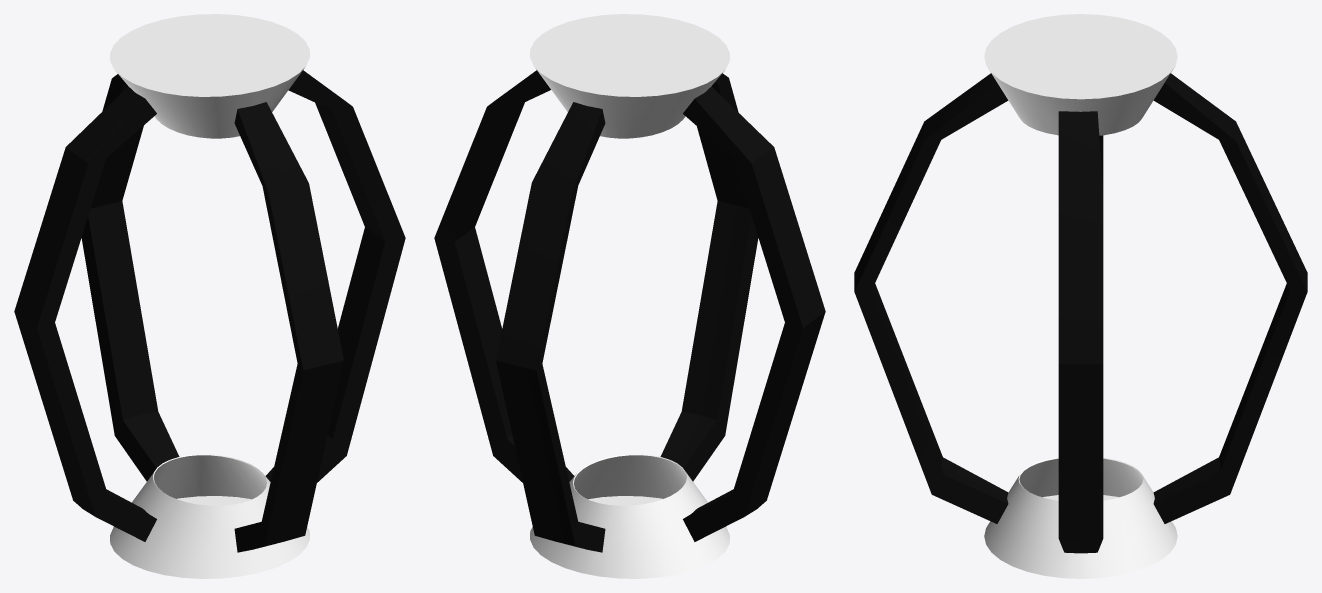
Rendered from soporte capsula.fbx.
The picture shows the model from 3 angles, left to right: view 1: azimuth 30°, elevation 25°; view 2: azimuth 150°, elevation 25°; view 3: azimuth 270°, elevation 25°; orthographic projection.
Visible parts, largest first — view 1: Sphere.002; view 2: Sphere.002; view 3: Sphere.002.
Part boxes in pixels (bbox=[...]): Sphere.002: bbox=[14, 14, 405, 578]; Sphere.002: bbox=[434, 14, 825, 578]; Sphere.002: bbox=[854, 14, 1307, 578].
Bounding box in the file's own units: 400 × 500 × 428.
Materials: 1 (1 with a texture image).
